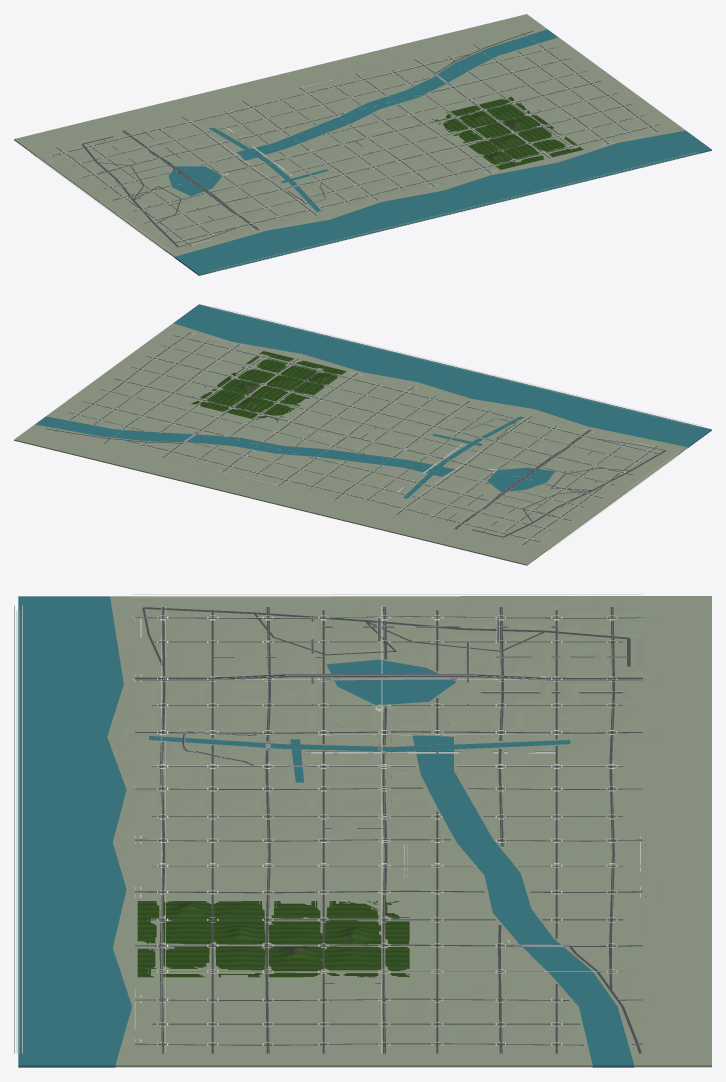
The model's file is infrastructure.gltf.
The picture shows the model from 3 angles, top to bottom: view 1: azimuth 30°, elevation 25°; view 2: azimuth 150°, elevation 25°; view 3: azimuth 270°, elevation 25°; orthographic projection. The views are drawn at different scales.
Parts seen in each view (by area): view 1: TERRAIN_BASE_10KM2, ATLANTIC_OCEAN, GIDI_SERVICE_LANES_CONNECTED, EKITI_HIGHLANDS_TERRAIN_BLOCKOUT_V1, GIDI_SIDEWALKS_PRIMARY_AND_SECONDARY, GIDI_PEDESTRIAN_CROSSWALKS, GIDI_BRIDGE_A_CONTINUOUS_DRIVABLE_DECK; view 2: TERRAIN_BASE_10KM2, ATLANTIC_OCEAN, GIDI_SERVICE_LANES_CONNECTED, EKITI_HIGHLANDS_TERRAIN_BLOCKOUT_V1, GIDI_SIDEWALKS_PRIMARY_AND_SECONDARY, GIDI_PEDESTRIAN_CROSSWALKS, GIDI_BRIDGE_A_CONTINUOUS_DRIVABLE_DECK; view 3: TERRAIN_BASE_10KM2, ATLANTIC_OCEAN, GIDI_SERVICE_LANES_CONNECTED, EKITI_HIGHLANDS_TERRAIN_BLOCKOUT_V1, GIDI_PRIMARY_MEDIAN_BLOCKOUT, GIDI_SIDEWALKS_PRIMARY_AND_SECONDARY, GIDI_PEDESTRIAN_CROSSWALKS, GIDI_LANE_MARKINGS, GIDI_BRIDGE_A_CONTINUOUS_DRIVABLE_DECK, GIDI_KERBS_PRIMARY_AND_SECONDARY, GIDI_BRIDGE_A_STRUCTURAL_DETAILS_AND_LIGHTS, ROAD_YB-L01_1.
Part boxes in pixels (left/top/right/bottom): TERRAIN_BASE_10KM2: left=14, top=14, right=685, bottom=257; ATLANTIC_OCEAN: left=168, top=29, right=711, bottom=275; GIDI_SERVICE_LANES_CONNECTED: left=52, top=31, right=660, bottom=247; EKITI_HIGHLANDS_TERRAIN_BLOCKOUT_V1: left=431, top=96, right=583, bottom=169; GIDI_SIDEWALKS_PRIMARY_AND_SECONDARY: left=30, top=152, right=698, bottom=272; GIDI_PEDESTRIAN_CROSSWALKS: left=61, top=48, right=653, bottom=241; GIDI_BRIDGE_A_CONTINUOUS_DRIVABLE_DECK: left=148, top=149, right=326, bottom=214; TERRAIN_BASE_10KM2: left=14, top=323, right=687, bottom=565; ATLANTIC_OCEAN: left=35, top=304, right=711, bottom=498; GIDI_SERVICE_LANES_CONNECTED: left=46, top=332, right=666, bottom=545; EKITI_HIGHLANDS_TERRAIN_BLOCKOUT_V1: left=191, top=351, right=346, bottom=421; GIDI_SIDEWALKS_PRIMARY_AND_SECONDARY: left=211, top=306, right=702, bottom=551; GIDI_PEDESTRIAN_CROSSWALKS: left=75, top=336, right=652, bottom=540; GIDI_BRIDGE_A_CONTINUOUS_DRIVABLE_DECK: left=463, top=418, right=570, bottom=510; TERRAIN_BASE_10KM2: left=107, top=596, right=711, bottom=1067; ATLANTIC_OCEAN: left=18, top=596, right=634, bottom=1067; GIDI_SERVICE_LANES_CONNECTED: left=135, top=607, right=642, bottom=1053; EKITI_HIGHLANDS_TERRAIN_BLOCKOUT_V1: left=137, top=901, right=409, bottom=977; GIDI_PRIMARY_MEDIAN_BLOCKOUT: left=132, top=606, right=642, bottom=1053; GIDI_SIDEWALKS_PRIMARY_AND_SECONDARY: left=14, top=594, right=642, bottom=1053; GIDI_PEDESTRIAN_CROSSWALKS: left=157, top=615, right=617, bottom=1045; GIDI_LANE_MARKINGS: left=132, top=606, right=641, bottom=1053; GIDI_BRIDGE_A_CONTINUOUS_DRIVABLE_DECK: left=182, top=674, right=545, bottom=766; GIDI_KERBS_PRIMARY_AND_SECONDARY: left=152, top=606, right=622, bottom=1053; GIDI_BRIDGE_A_STRUCTURAL_DETAILS_AND_LIGHTS: left=182, top=673, right=545, bottom=766; ROAD_YB-L01_1: left=311, top=617, right=628, bottom=705.
Bounding box in the file's own units: 4016 × 235 × 2516.
44 materials, 4 textured.
